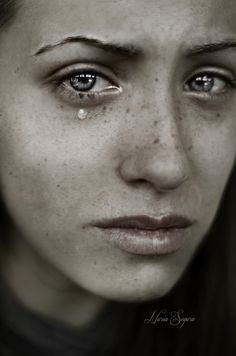Sad: (31, 31, 236, 267)
